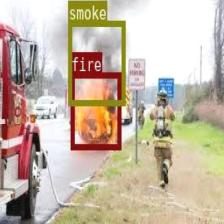fire: (70, 72, 120, 149)
smoke: (68, 20, 124, 105)
